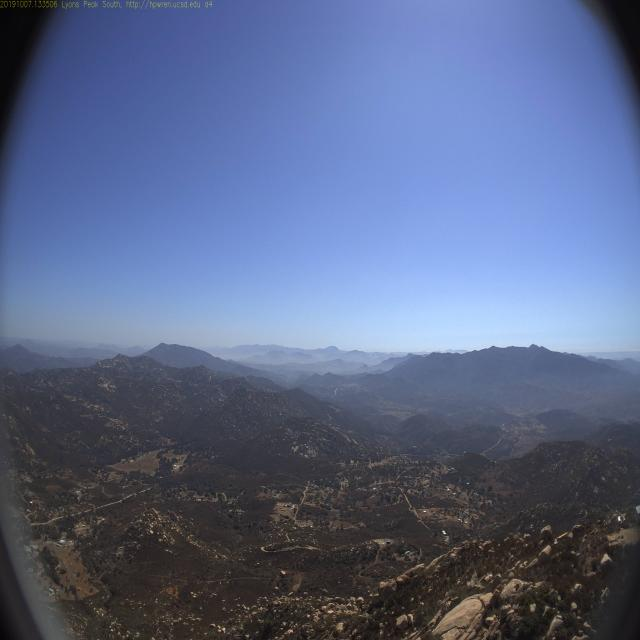smoke: (364, 351, 380, 359)
